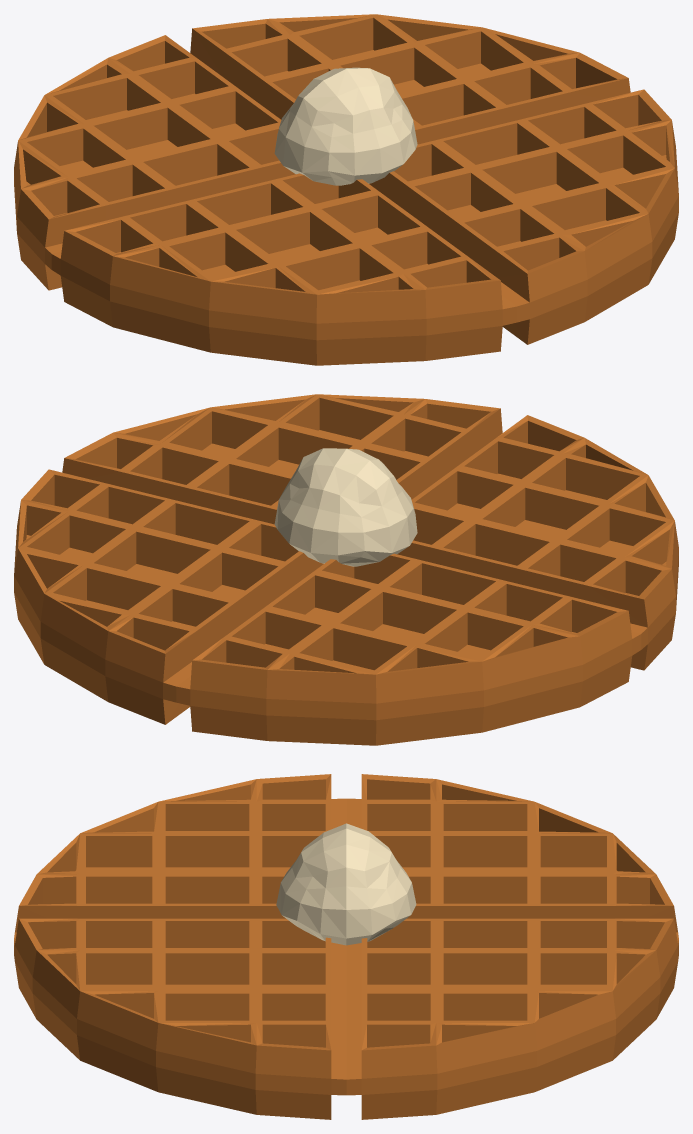
File: waffle.gltf
The picture shows the model from 3 angles, top to bottom: view 1: azimuth 30°, elevation 25°; view 2: azimuth 150°, elevation 25°; view 3: azimuth 270°, elevation 25°; orthographic projection. The views are drawn at different scales.
Parts seen in each view (by area): view 1: node-0; view 2: node-0; view 3: node-0.
Boxes of the visible parts, x1=… form: node-0: x1=14, y1=14, x2=678, y2=365; node-0: x1=14, y1=394, x2=678, y2=745; node-0: x1=14, y1=774, x2=678, y2=1119.
Bounding box in the file's own units: 1.88 × 0.4788 × 1.88.
